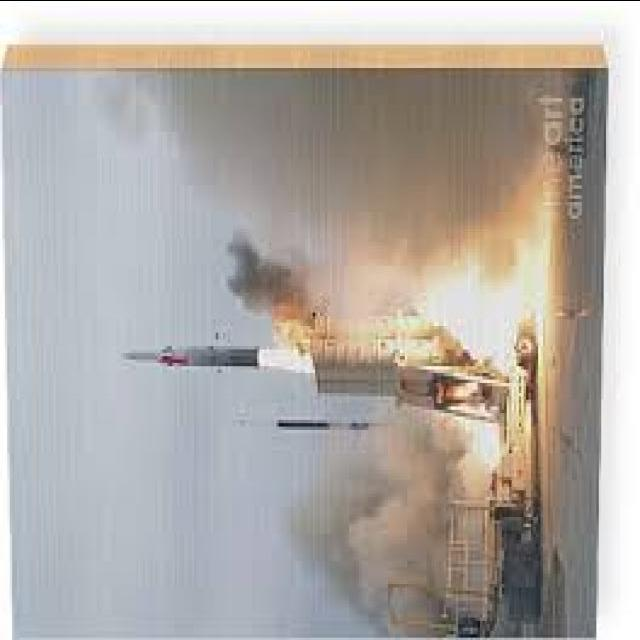Missile: (108, 336, 264, 378)
